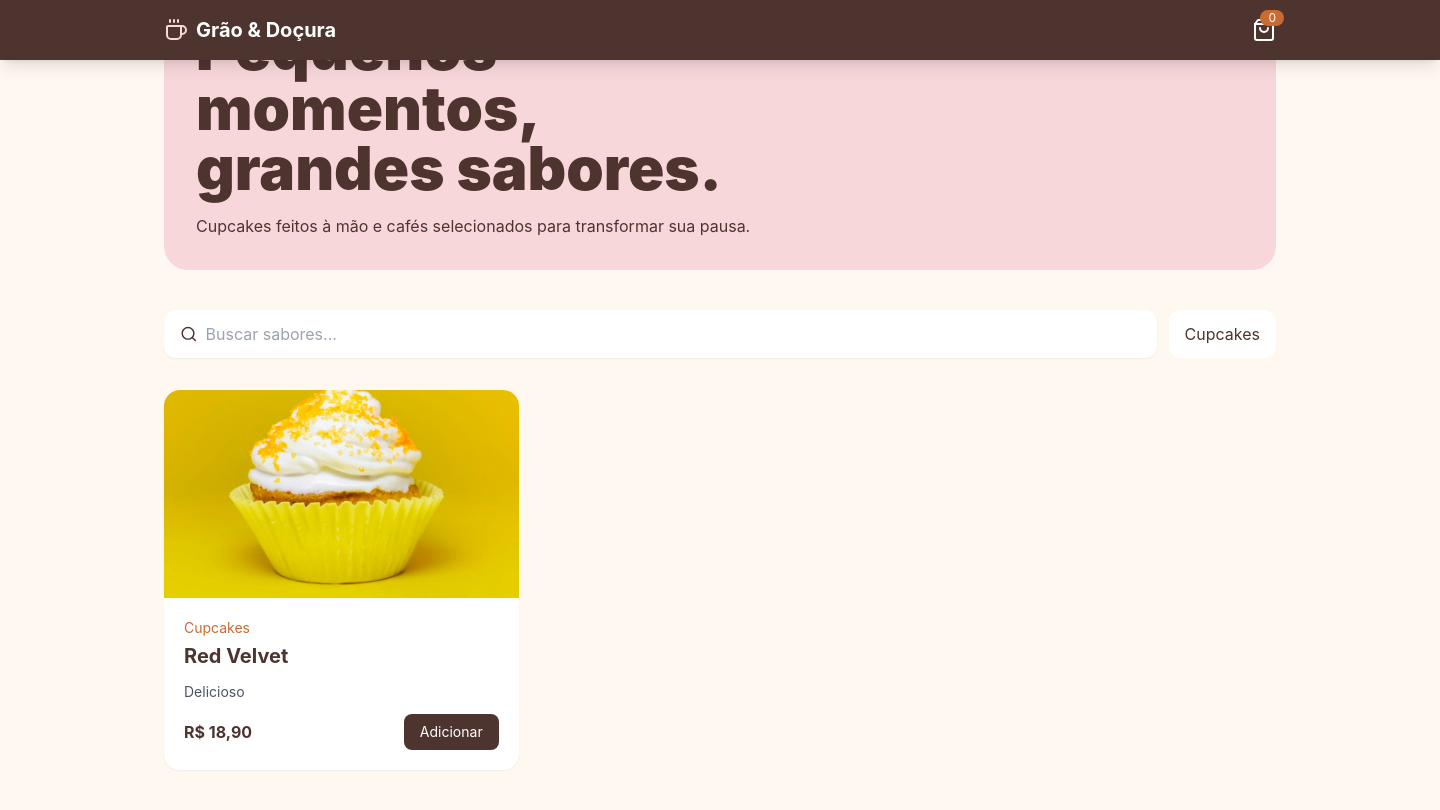
customer storefront › reviews and confirms an order once
The image size is (1440, 810).
(page scrolled)
Click the button "Adicionar" at (451, 732), box [404,714,499,750]
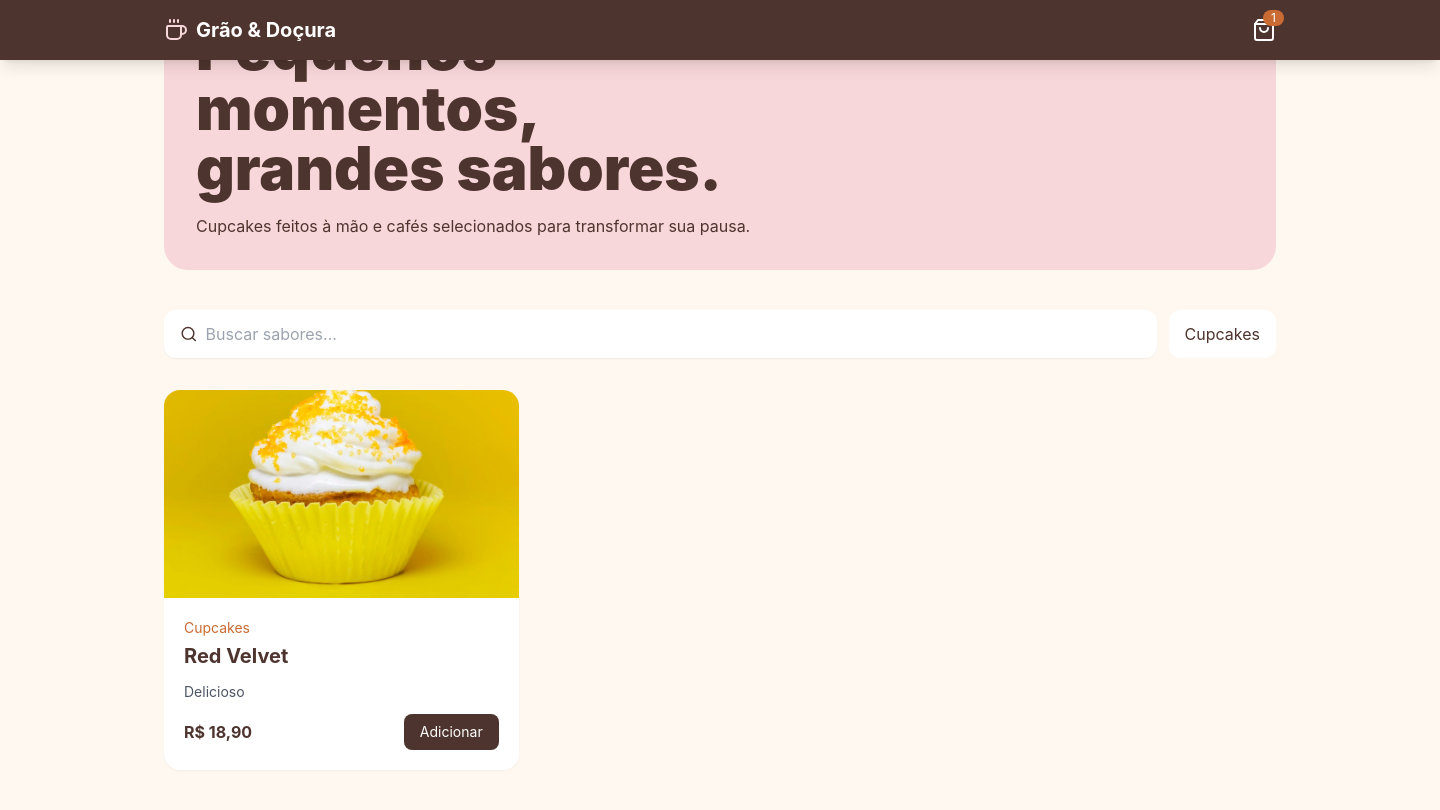
Click the button named "Abrir carrinho" at (1264, 30), box [1252,18,1276,42]
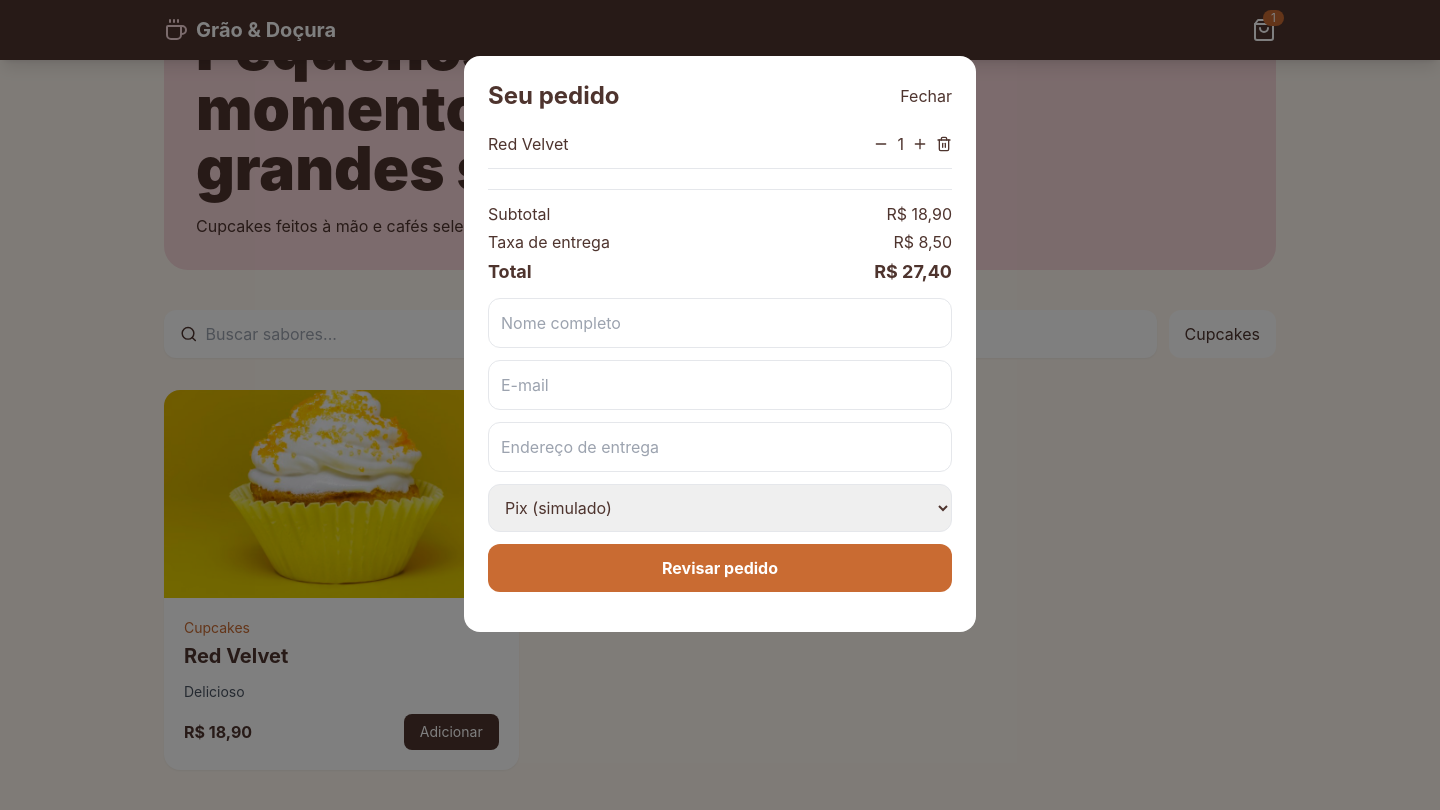
Type "Ana Souza" into the field with placeholder "Nome completo" at (720, 323), box [488,298,952,348]
Type "ana@example.com" into the field with placeholder "E-mail" at (720, 385), box [488,360,952,410]
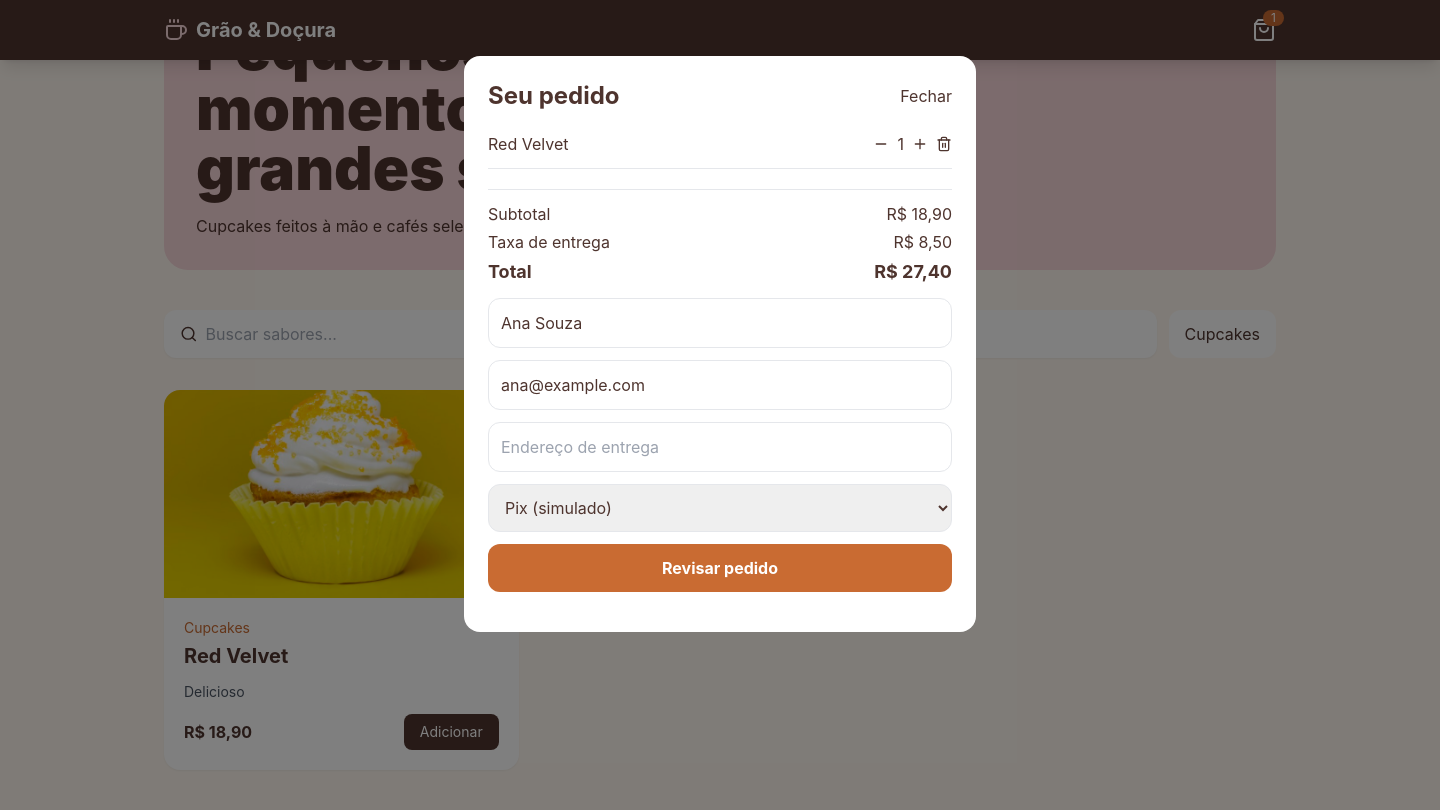
Type "Rua das Flores, 10" into the field with placeholder "Endereço de entrega" at (720, 447), box [488,422,952,472]
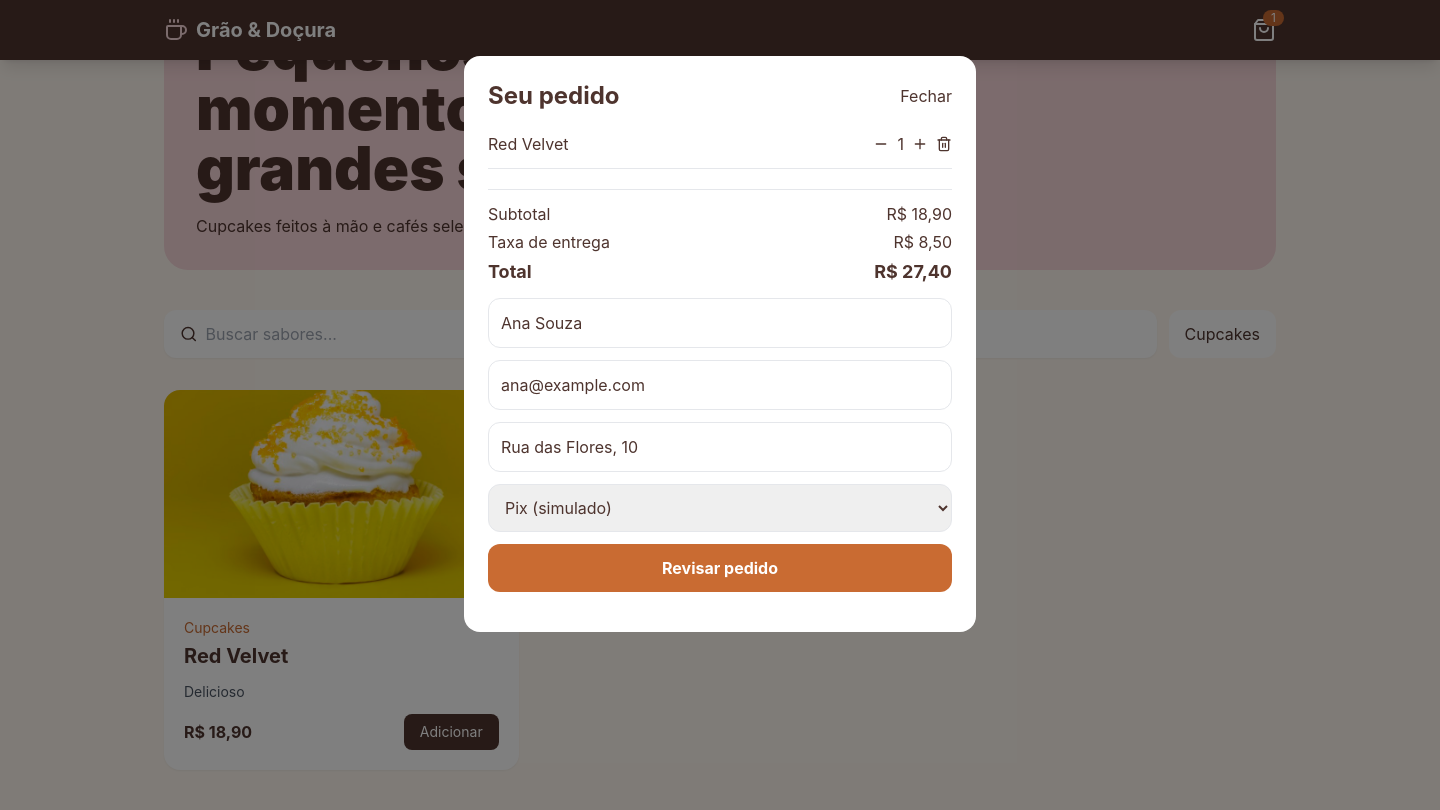
Click the button "Revisar pedido" at (720, 568), box [488,544,952,592]
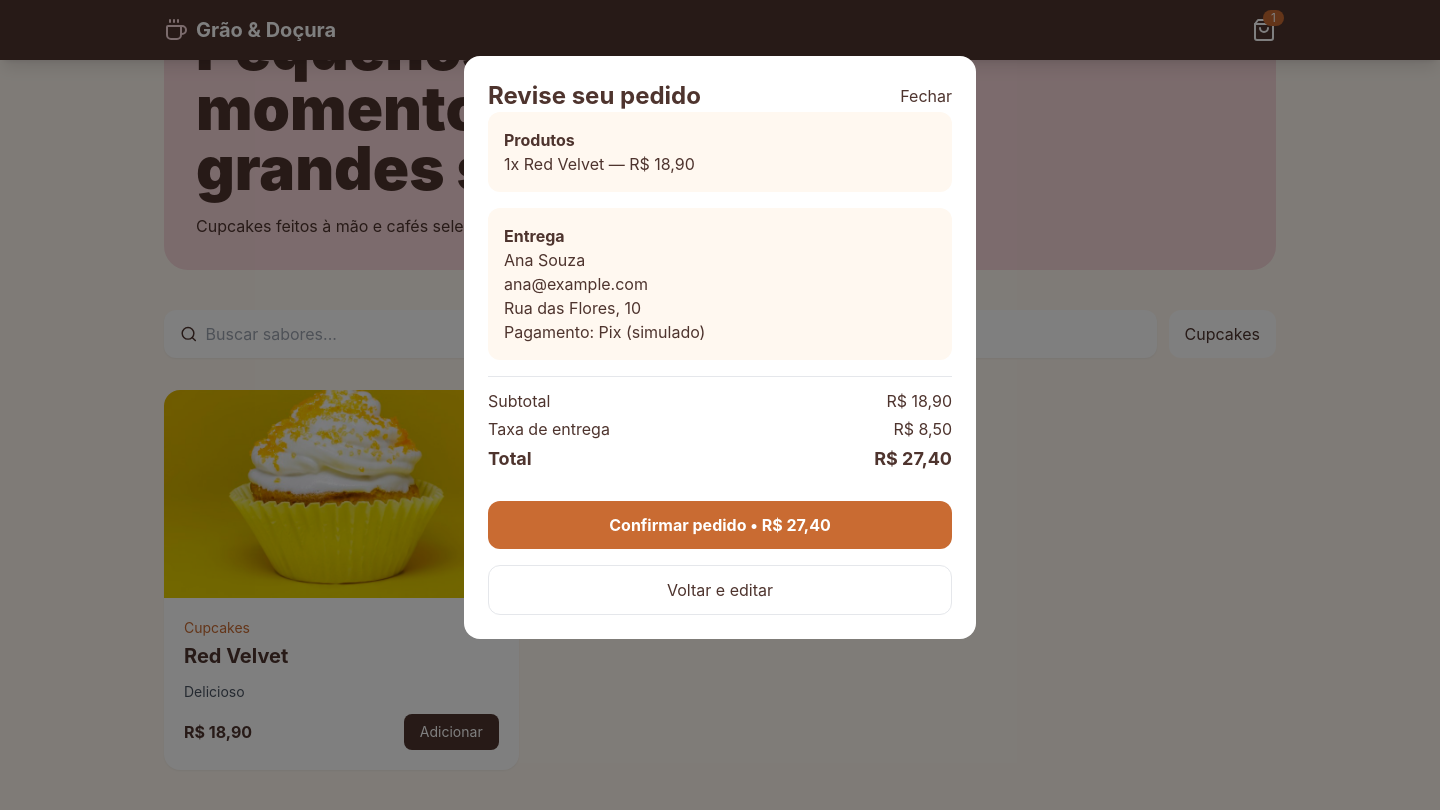
Result: the text "Taxa de entrega" is shown at [488,419,610,439]
Result: the heading "Revise seu pedido" is shown at [488,80,701,112]
Click the button "Confirmar pedido • R$ 27,40" at (720, 525), box [488,501,952,549]
(page scrolled)
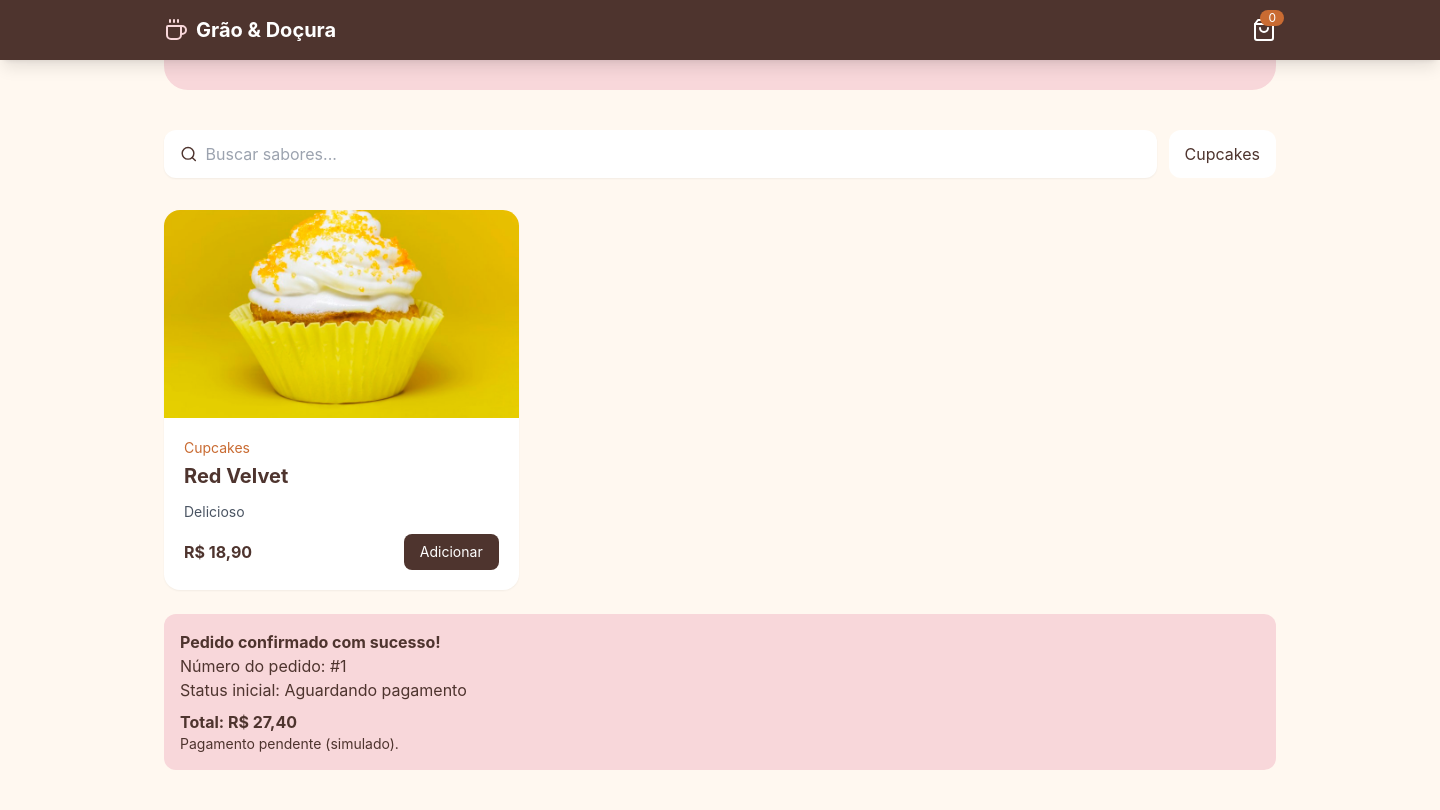
Result: the text "Número do pedido: #1" is shown at [180,656,346,676]
